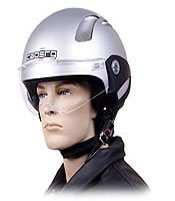helmet: (24, 9, 131, 94)
